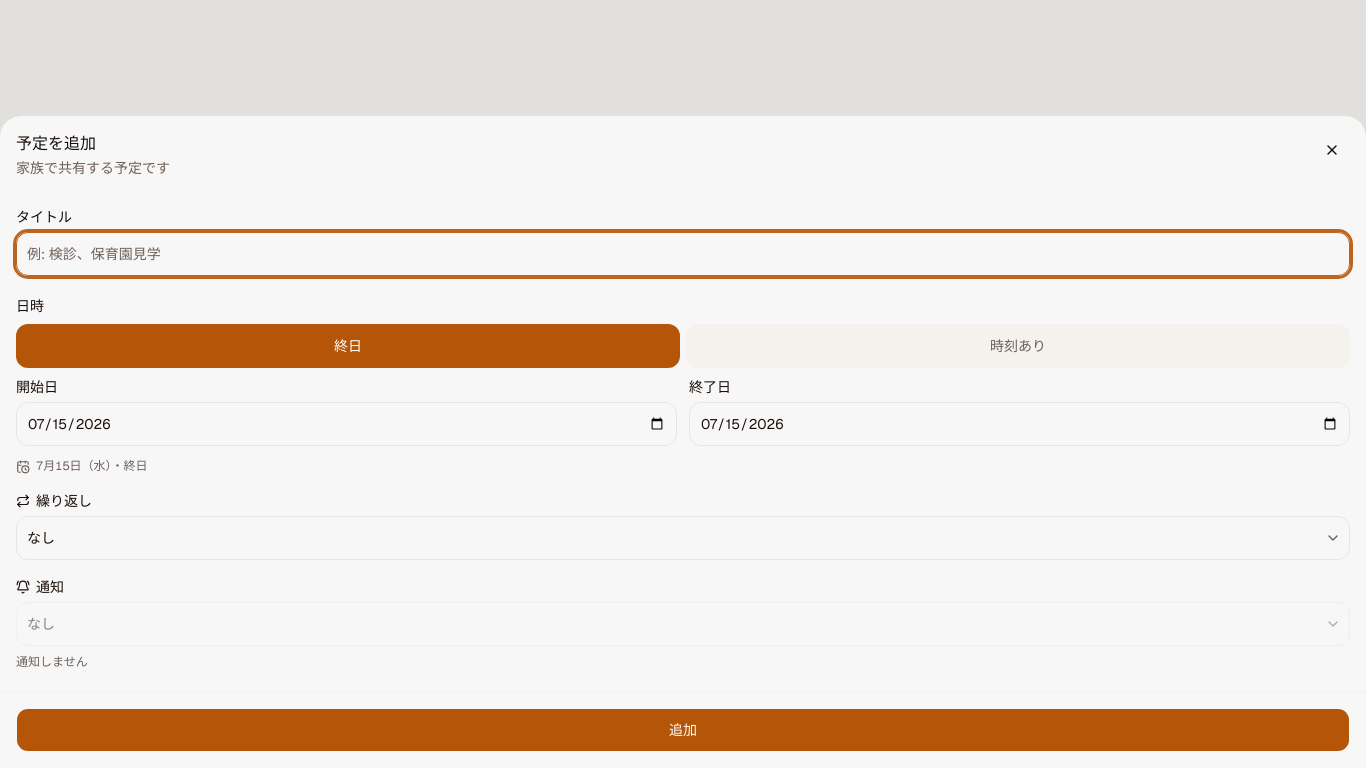
Scenario: CalendarEventFormSheet - 終日/時刻あり セグメント › 終日へ戻すと入力した開始/終了時刻がクリアされる
This screenshot has width=1366, height=768.
Expected: the text "タイトル" is shown, [16,210,72,226]
Click the button "時刻あり". click: (1018, 346)
box: [686,324,1350,368]
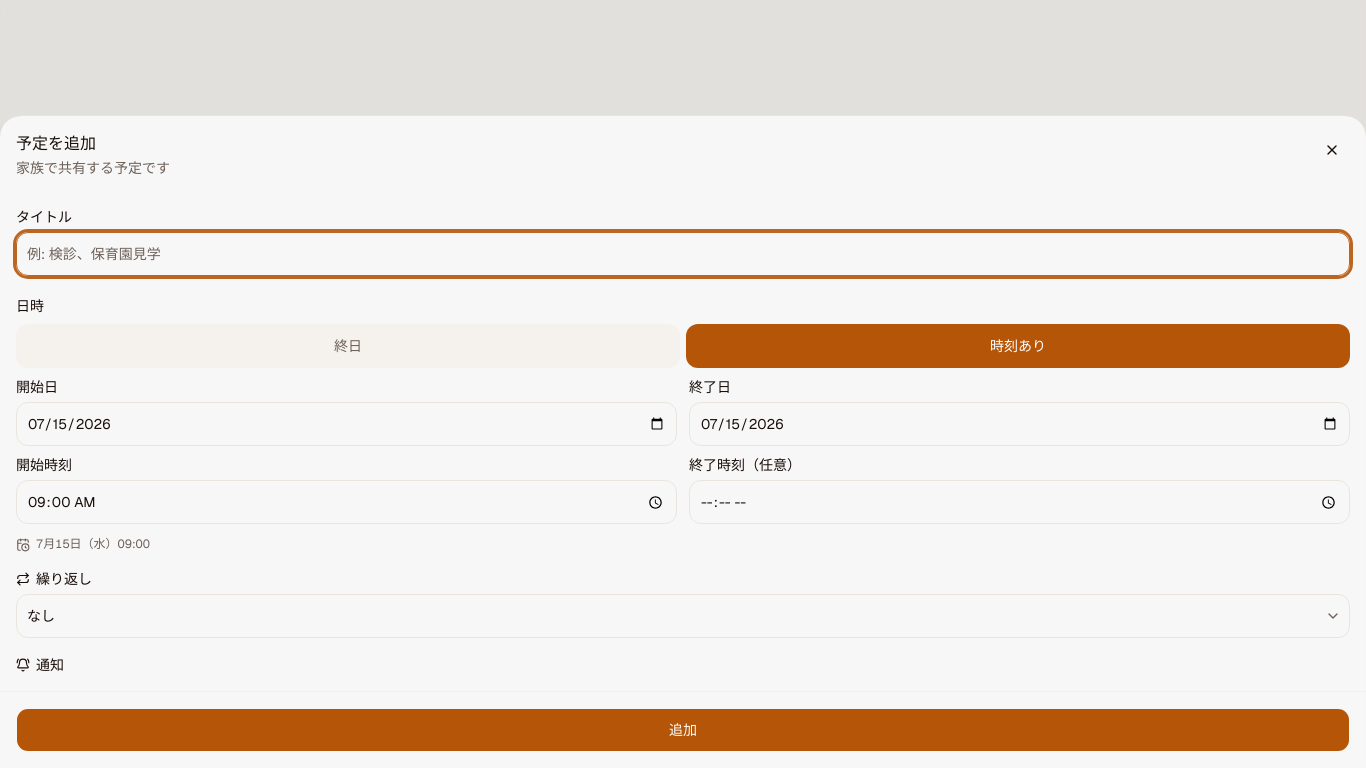
Replace the text in the time field with id "cal-start-time" with "14:00". click: (346, 502)
box: [16,480,677,524]
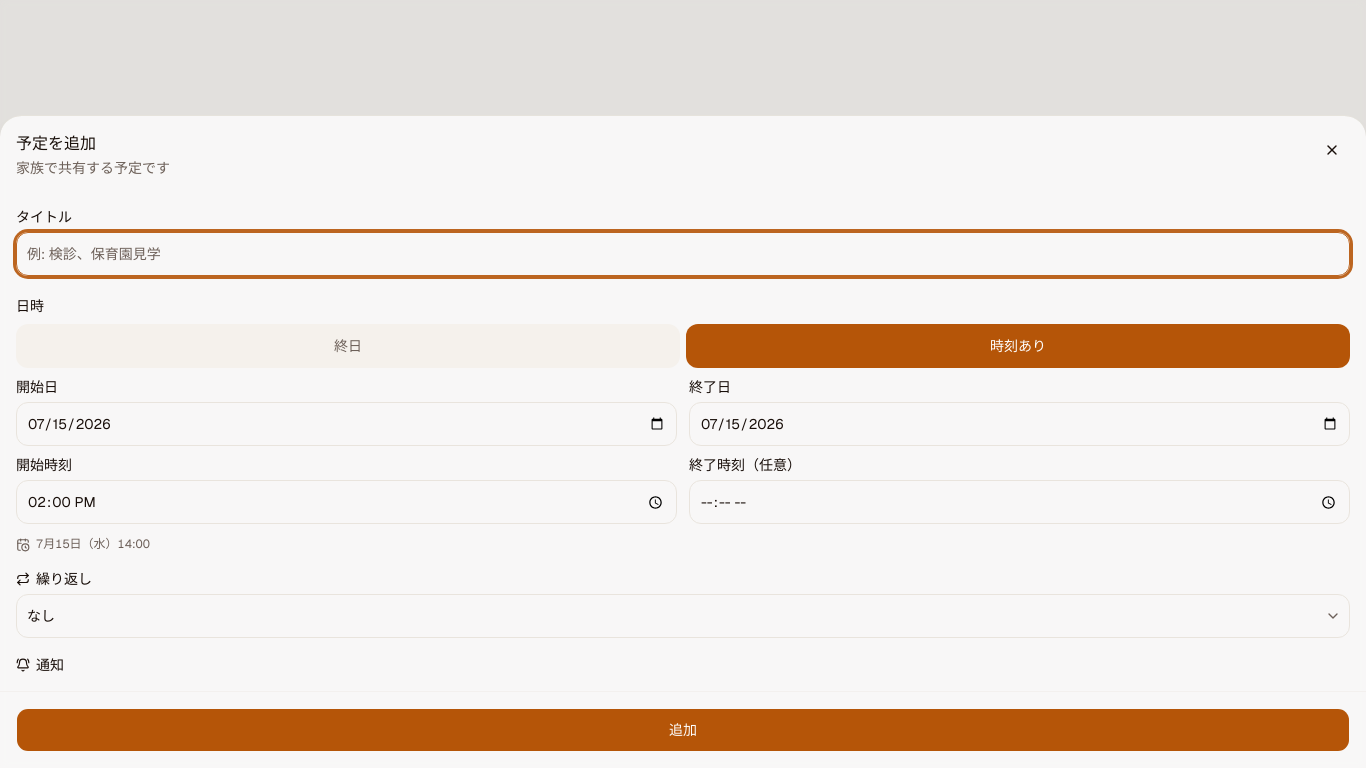
Type "15:00" into the time field with id "cal-end-time". click: (1020, 502)
box: [689,480,1350,524]
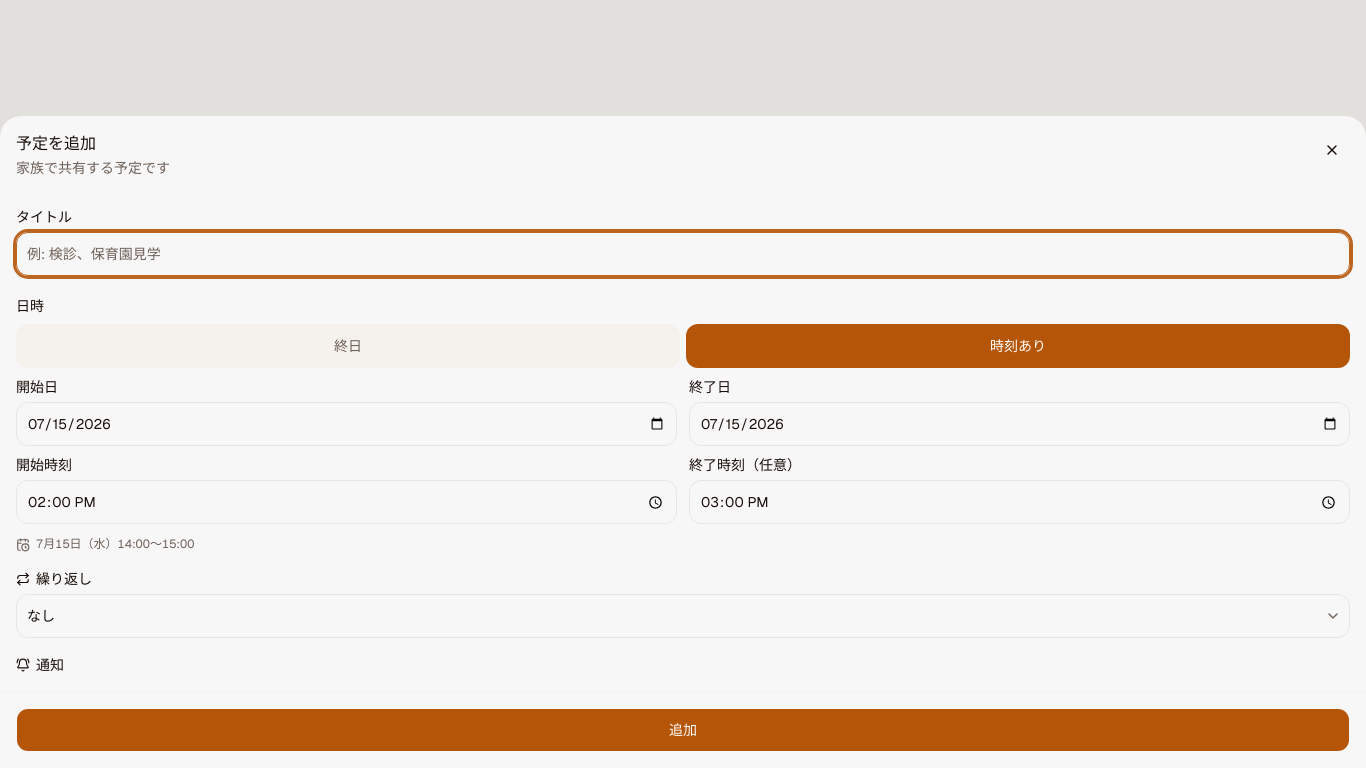
Click the button "終日". click: (348, 346)
box: [16,324,680,368]
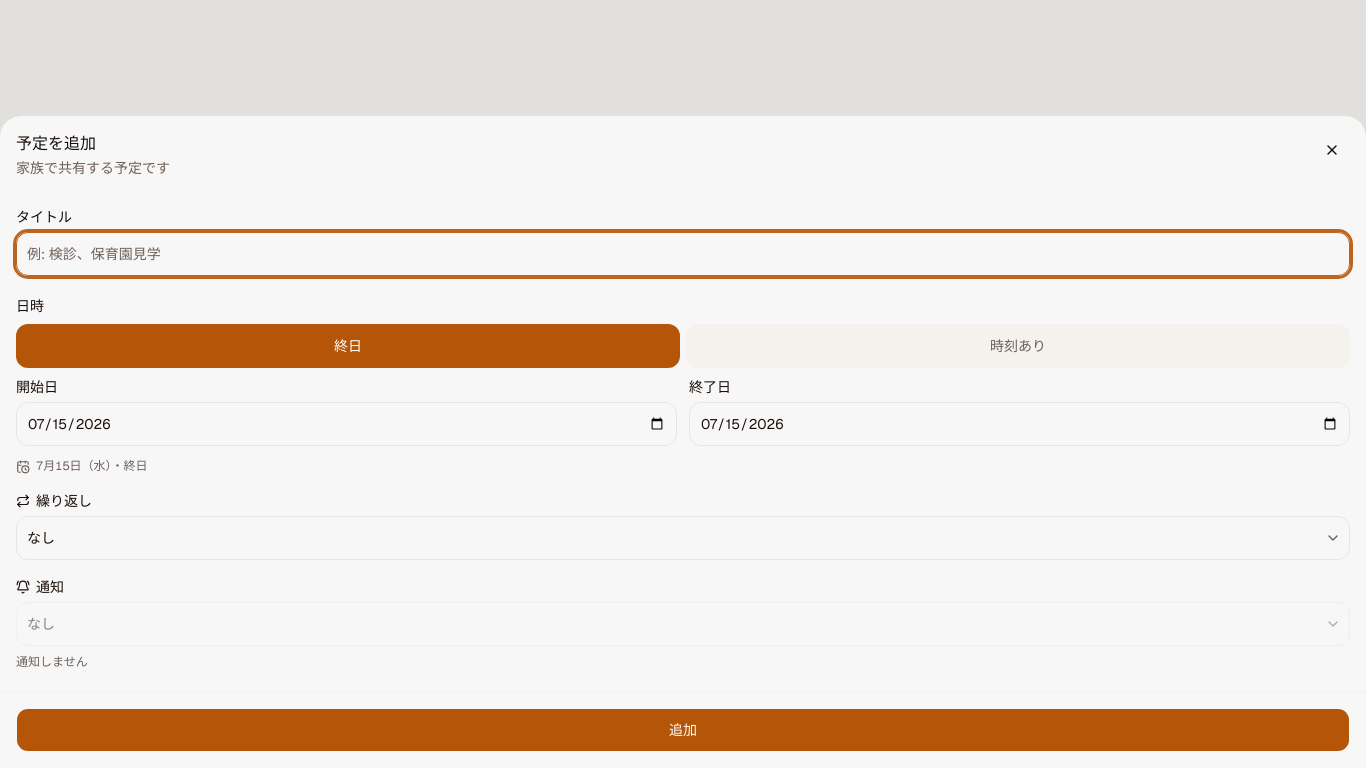
Click the button "時刻あり". click: (1018, 346)
box: [686,324,1350,368]
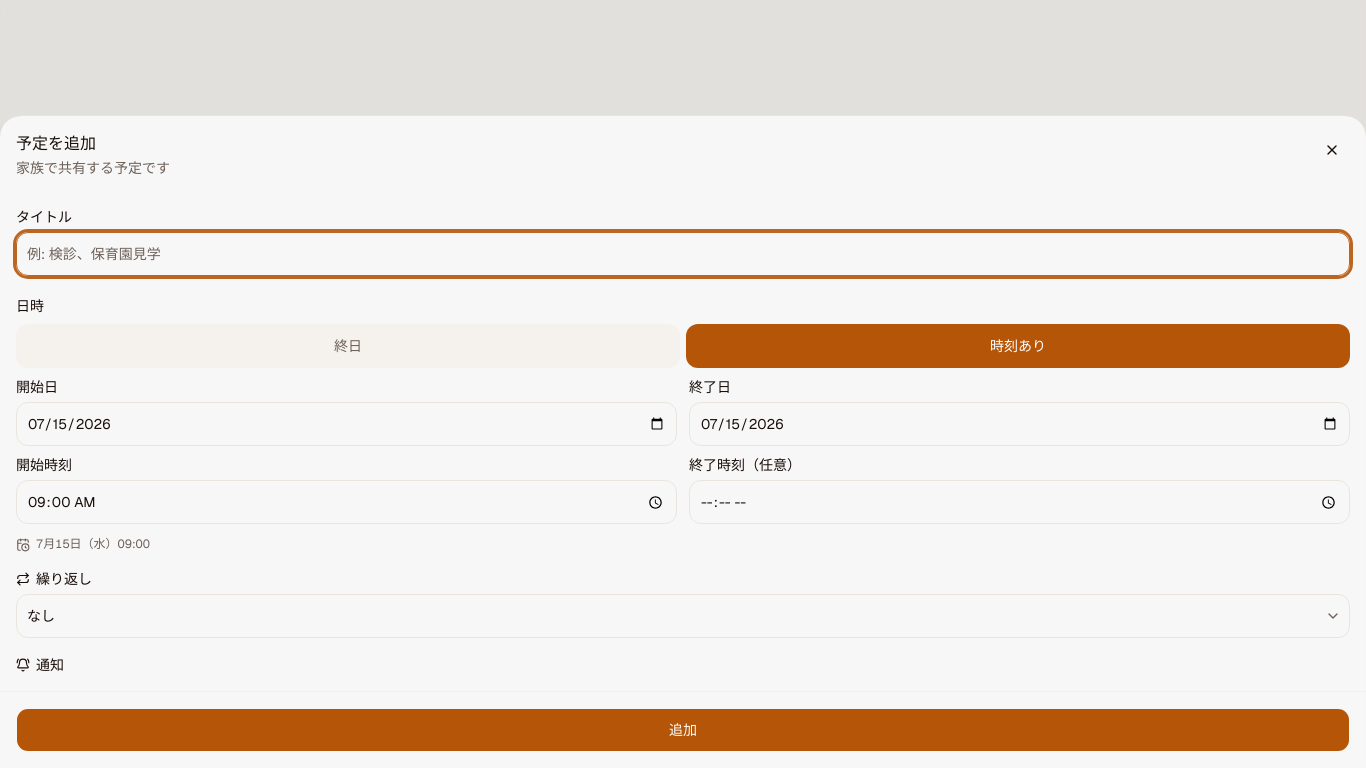
Now the time field with id "cal-start-time" holds "09:00", box [16,480,677,524]
Now the time field with id "cal-end-time" is empty, box [689,480,1350,524]
